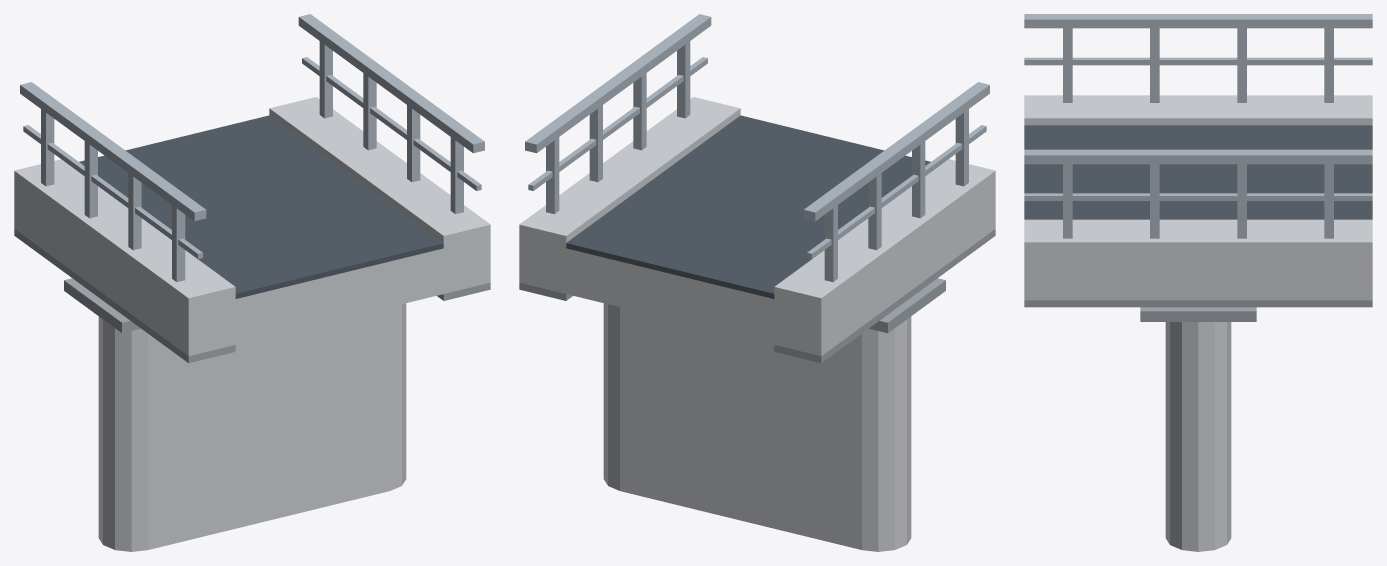
Rendered from bridge.glb.
3 renders of one model, left to right at view 1: azimuth 30°, elevation 25°; view 2: azimuth 150°, elevation 25°; view 3: azimuth 270°, elevation 25°, orthographic.
Parts seen in each view (by area): view 1: BridgeDeckSlab, BridgePierWall, BridgeRailing; view 2: BridgeDeckSlab, BridgePierWall, BridgeRailing; view 3: BridgeDeckSlab, BridgeRailing, BridgePierWall.
Part boxes in pixels (<box>): BridgeDeckSlab: <box>14,97,490,363</box>; BridgePierWall: <box>64,278,406,551</box>; BridgeRailing: <box>20,14,484,281</box>; BridgeDeckSlab: <box>519,97,995,363</box>; BridgePierWall: <box>603,278,945,551</box>; BridgeRailing: <box>525,14,989,281</box>; BridgeDeckSlab: <box>1024,95,1372,307</box>; BridgeRailing: <box>1024,14,1372,238</box>; BridgePierWall: <box>1140,307,1256,551</box>.
Size of the model in its own units: 1.9 by 2.25 by 1.8.
Materials: 2 (2 with a texture image).
